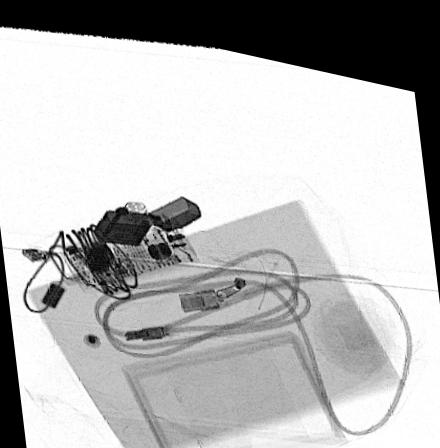Lighter: (91, 187, 201, 240)
